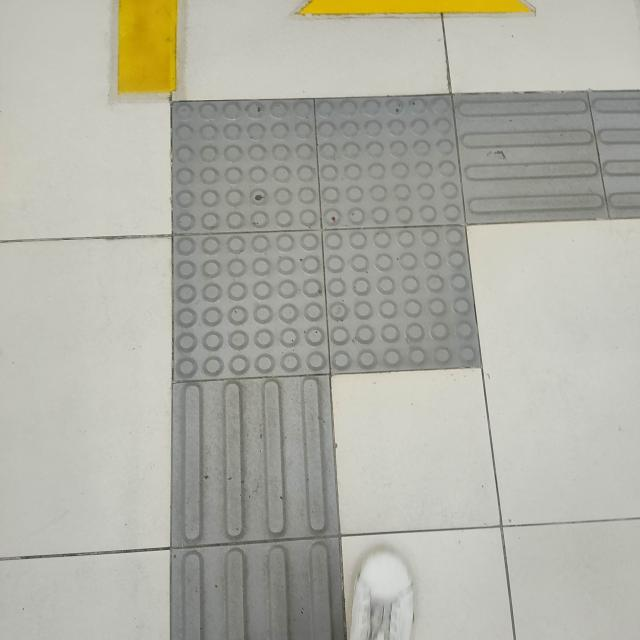kanan: (94, 41, 640, 447)
